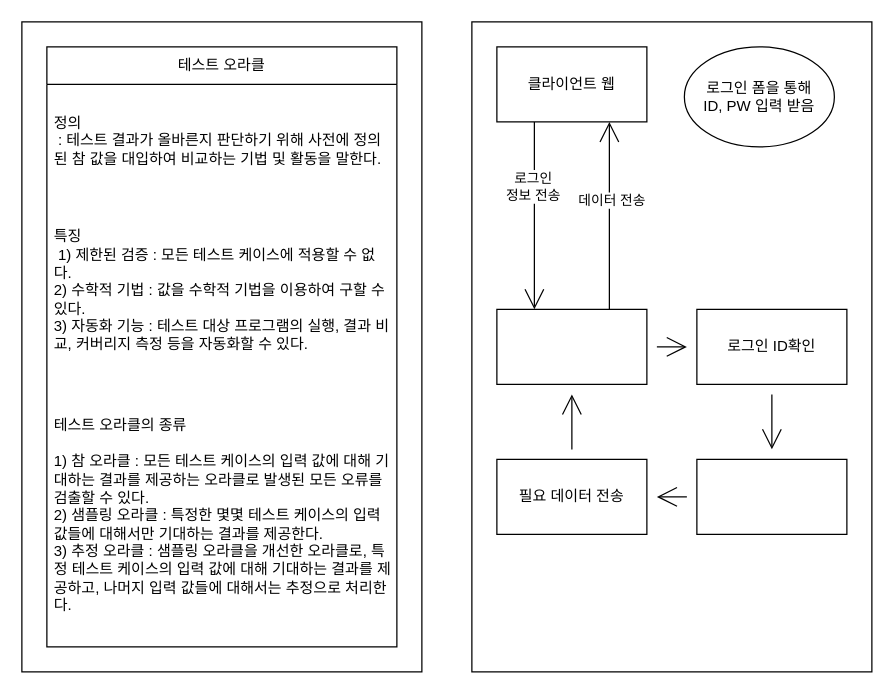
This 894x694 diagram has some shape labels left out. Here are the shapes that lost their labels. From the top down, the box of each, then its label:
(496, 308, 647, 384): 데이터 서버
(696, 458, 847, 534): 로그인 PW확인
